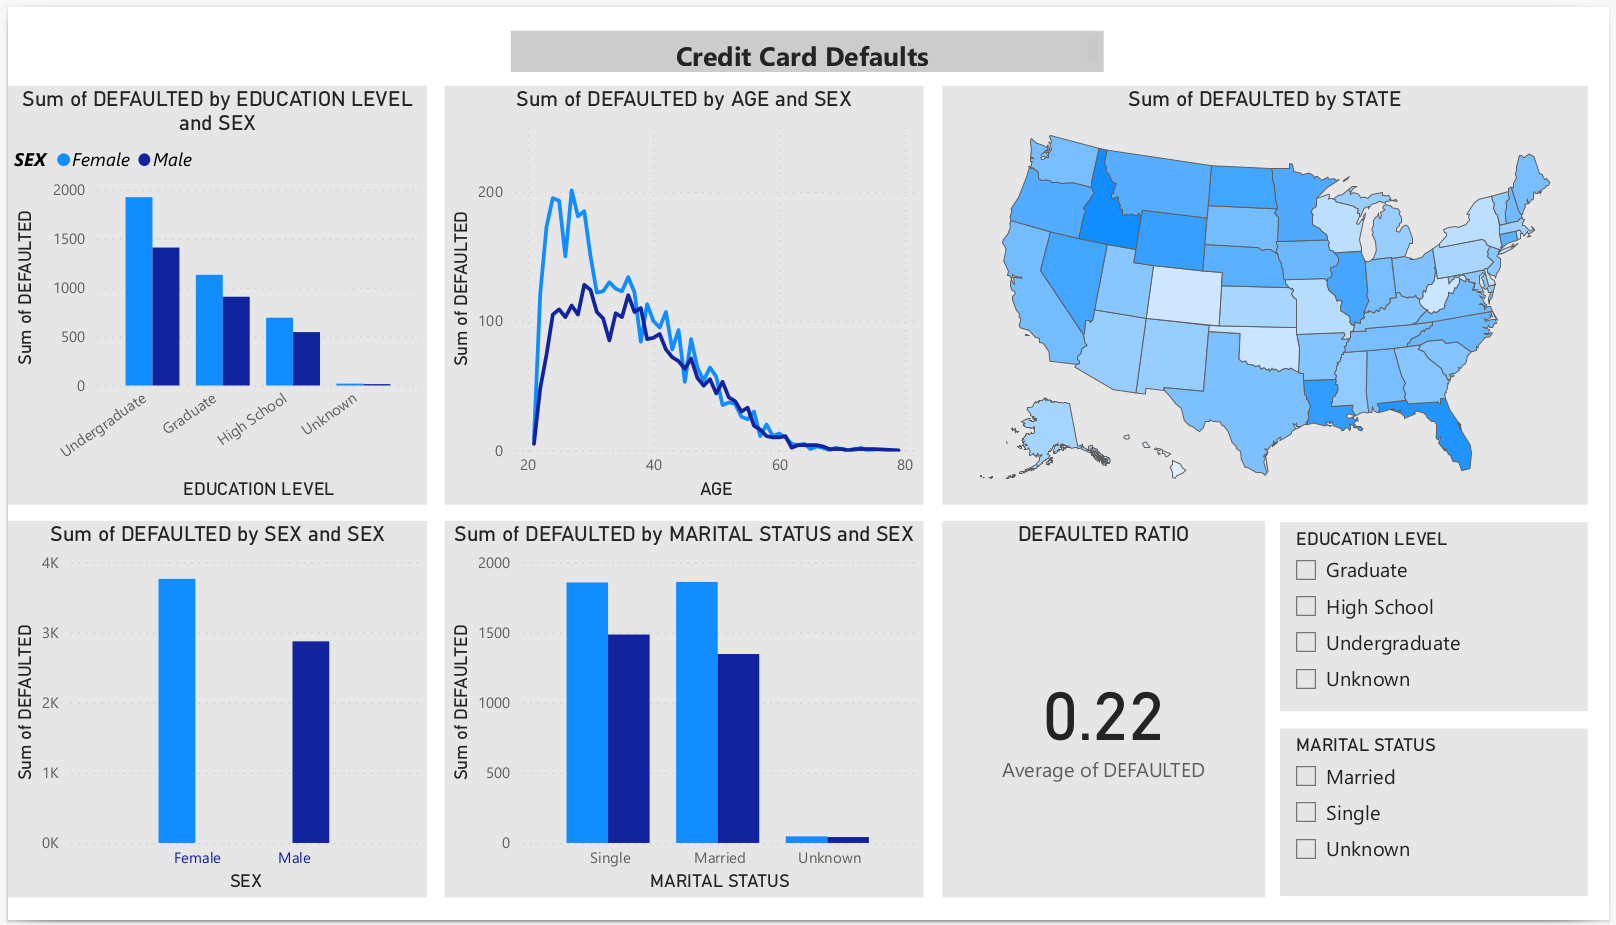

The dashboard page shown, as its layout file describes it:
{"tool":"powerbi","page":{"name":"Page 1","canvas":[1280,720],"ordinal":0},"visuals":[{"type":"lineChart","fields":{"Category":["Data.AGE"],"Y":["Sum(Data.DEFAULTED)"],"Series":["Data.SEX"]},"box":[348.8,58.4,383.2,335.1],"z":0},{"type":"clusteredColumnChart","fields":{"Series":["Data.SEX"],"Y":["Sum(Data.DEFAULTED)"],"Category":["Data.EDUCATION LEVEL"]},"box":[0,58.4,335.1,335.1],"z":1000},{"type":"clusteredColumnChart","fields":{"Y":["Sum(Data.DEFAULTED)"],"Category":["Data.SEX"],"Series":["Data.SEX"]},"box":[0,405.5,335.1,300.7],"z":2000},{"type":"shapeMap","fields":{"Category":["Data.STATE"],"Value":["Sum(Data.DEFAULTED)"]},"box":[747.5,58.4,515.5,335.1],"z":3000},{"type":"clusteredColumnChart","fields":{"Y":["Sum(Data.DEFAULTED)"],"Series":["Data.SEX"],"Category":["Data.MARITAL STATUS"]},"box":[348.8,405.5,383.2,300.7],"z":4000},{"type":"card","title":"DEFAULTED RATIO","fields":{"Values":["Avg(Data.DEFAULTED)"]},"box":[747.5,405.5,257.8,300.7],"z":5000},{"type":"slicer","fields":{"Values":["Data.EDUCATION LEVEL"]},"box":[1017.3,407.3,245.7,151.2],"z":6000},{"type":"slicer","fields":{"Values":["Data.MARITAL STATUS"]},"box":[1017.3,572.2,245.7,134],"z":7000},{"type":"textbox","box":[402.1,13.7,474.3,32.6],"z":8000}]}

Visuals, with their boxes in screenshot pixels (x1, y1, x2, y2), scaled from the page's 1280x720 canvas onto the 1616x925 screenshot:
lineChart - Data.AGE x Sum(Data.DEFAULTED): (left=440, top=75, right=924, bottom=506)
clusteredColumnChart - Data.SEX x Sum(Data.DEFAULTED): (left=0, top=75, right=423, bottom=506)
clusteredColumnChart - Sum(Data.DEFAULTED) x Data.SEX: (left=0, top=521, right=423, bottom=907)
shapeMap - Data.STATE x Sum(Data.DEFAULTED): (left=944, top=75, right=1595, bottom=506)
clusteredColumnChart - Sum(Data.DEFAULTED) x Data.SEX: (left=440, top=521, right=924, bottom=907)
"DEFAULTED RATIO" card: (left=944, top=521, right=1269, bottom=907)
slicer - Data.EDUCATION LEVEL: (left=1284, top=523, right=1595, bottom=718)
slicer - Data.MARITAL STATUS: (left=1284, top=735, right=1595, bottom=907)
textbox: (left=508, top=18, right=1106, bottom=59)
